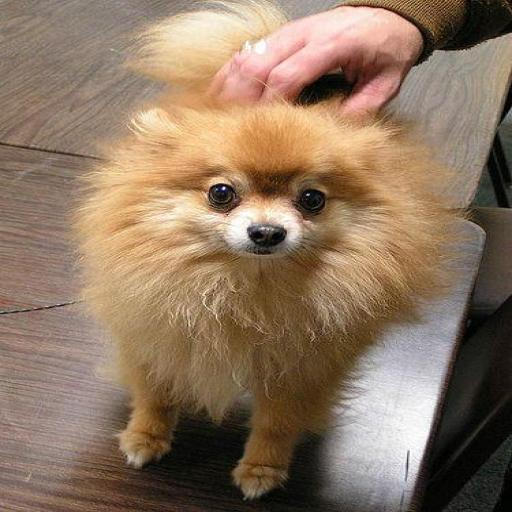dog_face: (116, 101, 392, 256)
